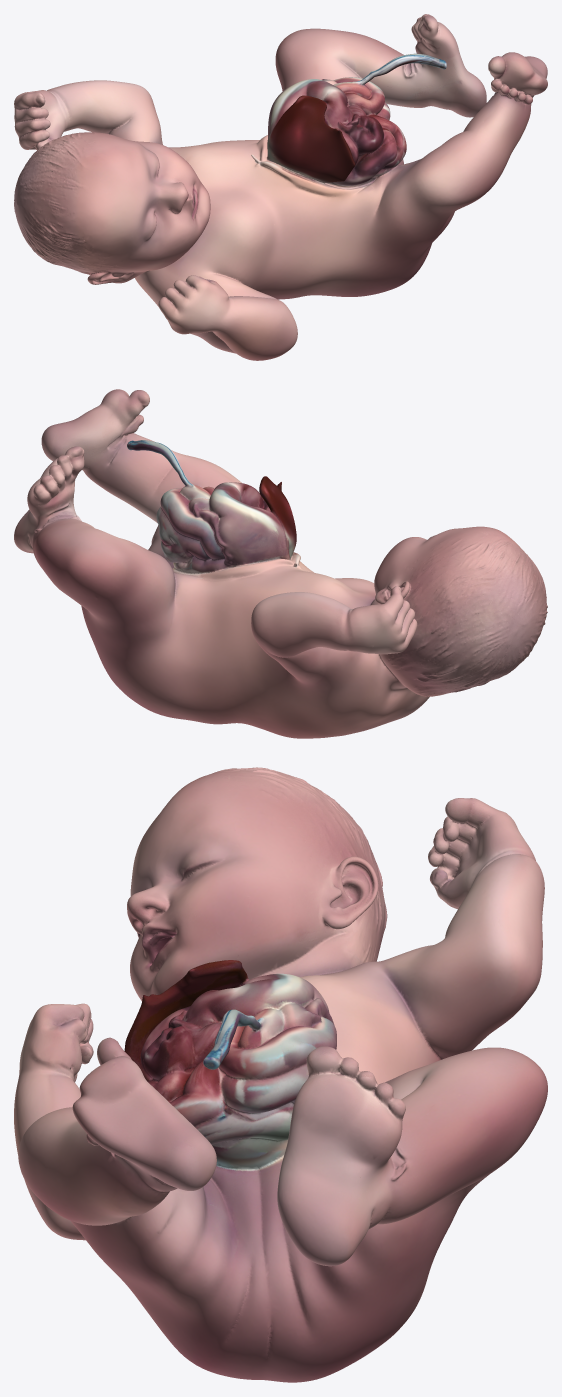
File: ONFALOCELE-v1.glb
3 views of the same model, one above another, from view 1: azimuth 30°, elevation 25°; view 2: azimuth 150°, elevation 25°; view 3: azimuth 270°, elevation 25° (orthographic). The views are drawn at different scales.
Size of the model in its own units: 1.9 by 0.8863 by 1.06.
Materials: 1 (1 with a texture image).
